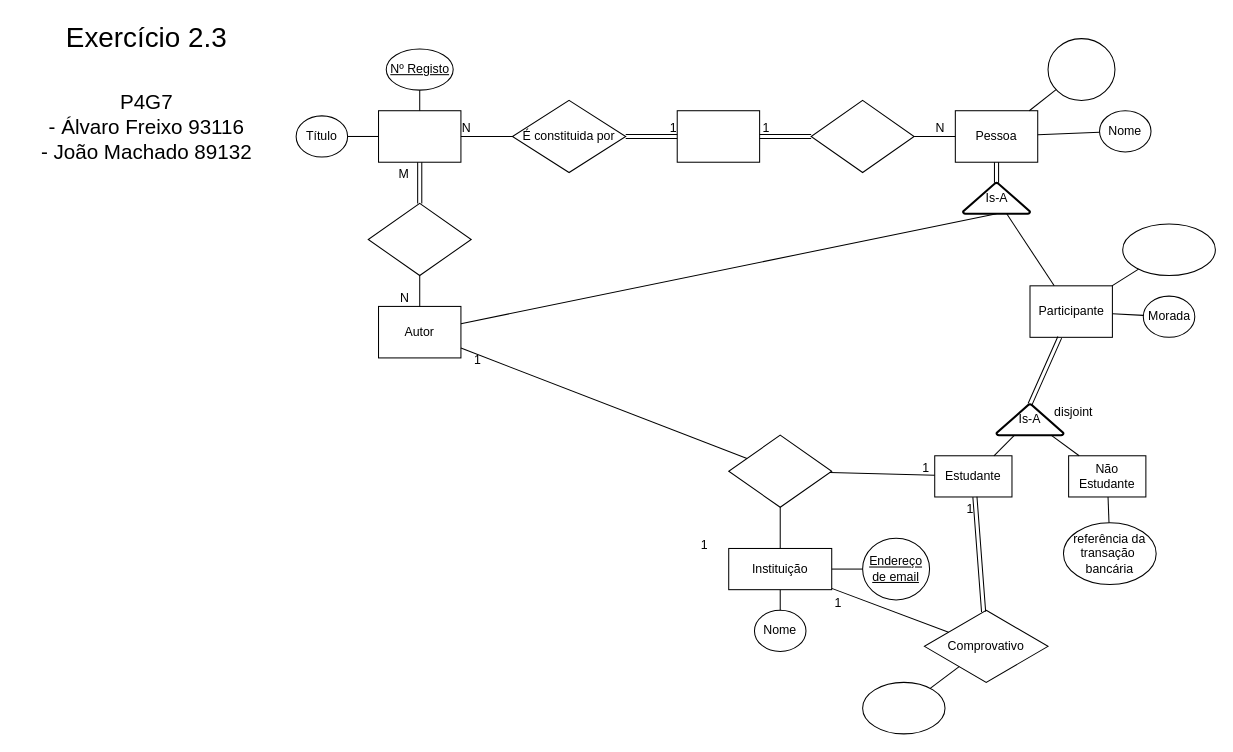
This 1233x752 diagram has some shape labels left out. The shapes that lost their labels are listed below. From the top down, each one's centre as x and y in pixels, then its label:
(x=1081, y=69): Email
(x=419, y=136): Artigo
(x=718, y=136): Conferência
(x=862, y=136): Assistido por
(x=419, y=239): É escrito por
(x=1168, y=249): Data Inscrição
(x=780, y=470): Pertencer
(x=903, y=707): Localização eletrónica
